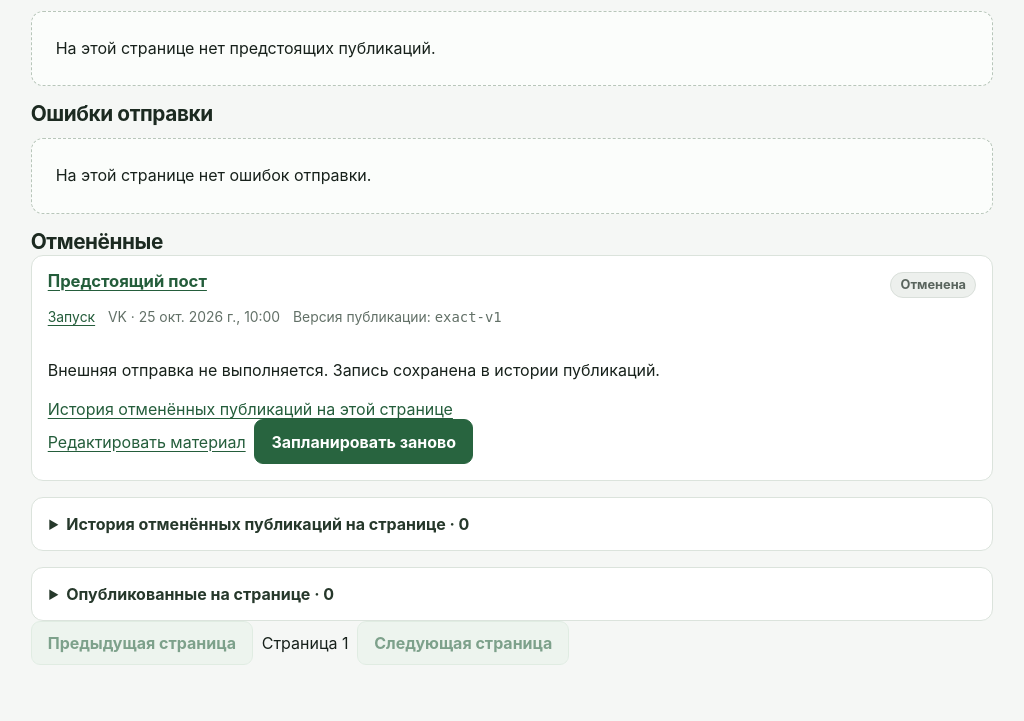
Scenario: publication operator commands › replans a cancelled post once and accepts the server's replacement and history
This screenshot has width=1024, height=721.
(page scrolled)
Click the button "Запланировать заново". click: (364, 442)
box: [254,419,473,464]
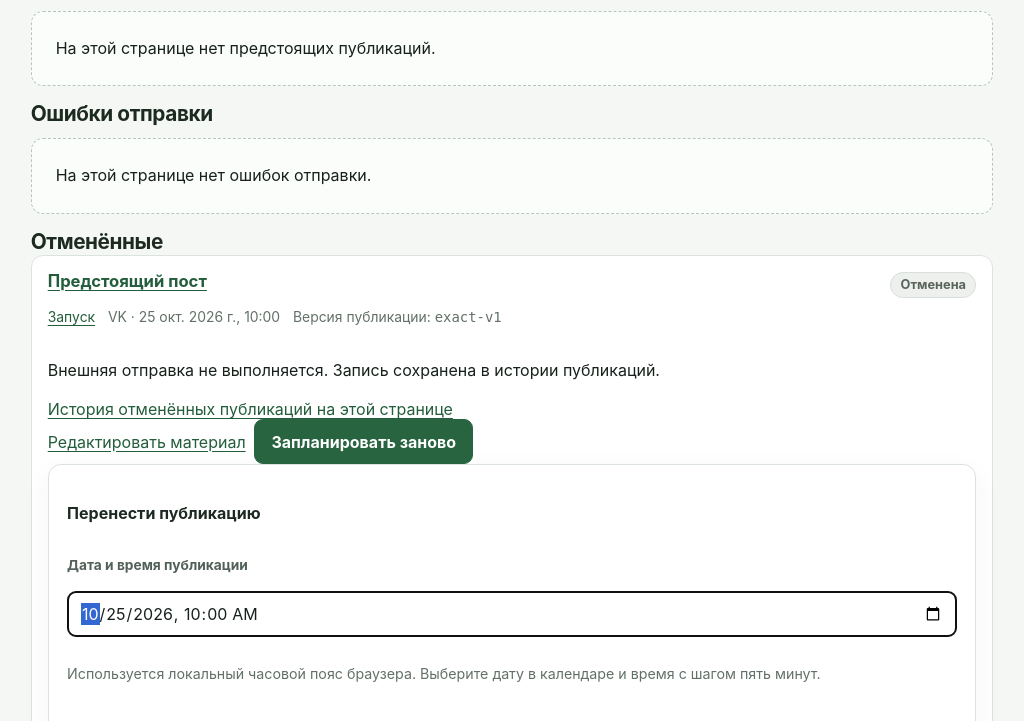
Replace the text in the field labelled "Дата и время публикации" with "2026-10-27T09:00". click: (512, 614)
box: [67,590,957,637]
(page scrolled)
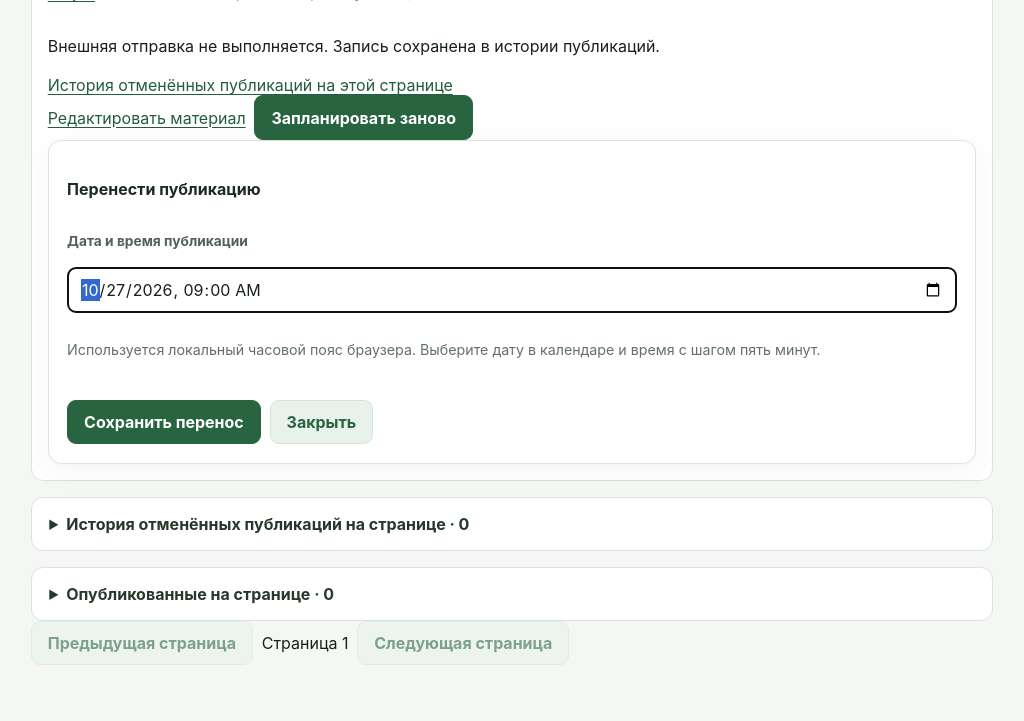
Click the button "Сохранить перенос". click: (164, 422)
box: [67,400,261,444]
(page scrolled)
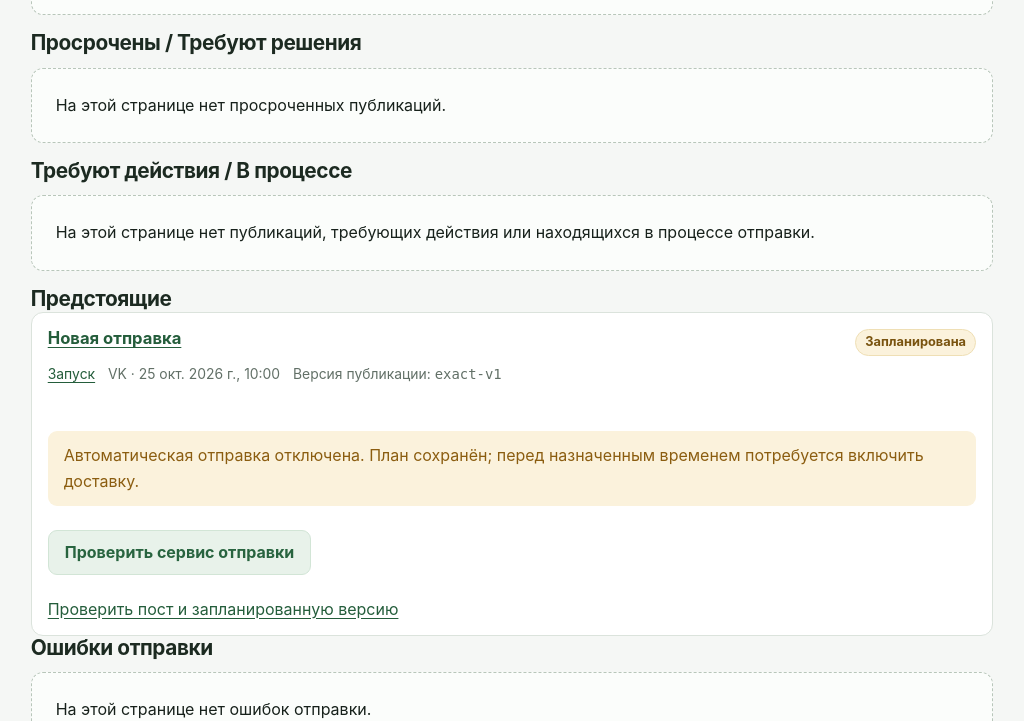
Check: the link "Новая отправка" is shown, box [48,328,181,348]
Check: the button "Запланировать заново" is gone
